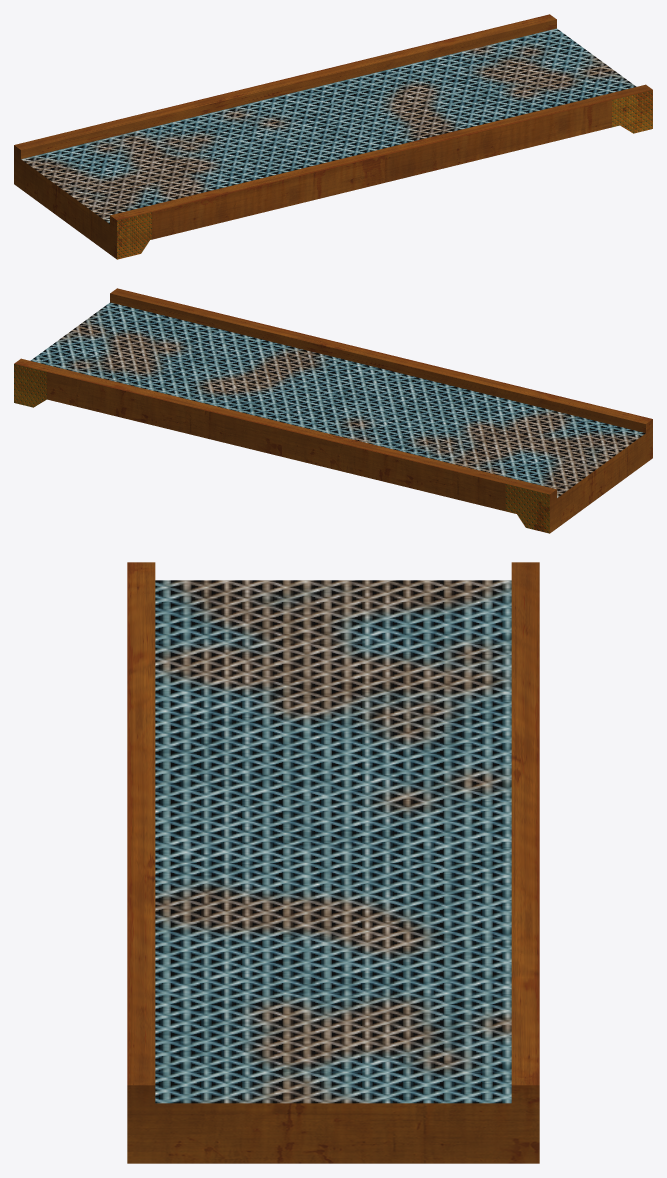
The model's file is Space_Catwalk.FBX.
The picture shows the model from 3 angles, top to bottom: view 1: azimuth 30°, elevation 25°; view 2: azimuth 150°, elevation 25°; view 3: azimuth 270°, elevation 25°; orthographic projection. The views are drawn at different scales.
Parts seen in each view (by area): view 1: Box001; view 2: Box001; view 3: Box001.
Boxes of the visible parts, x1=… form: Box001: x1=14, y1=14, x2=652, y2=259; Box001: x1=14, y1=288, x2=652, y2=533; Box001: x1=127, y1=562, x2=539, y2=1163.
Bounding box in the file's own units: 6 × 0.4187 × 2.
